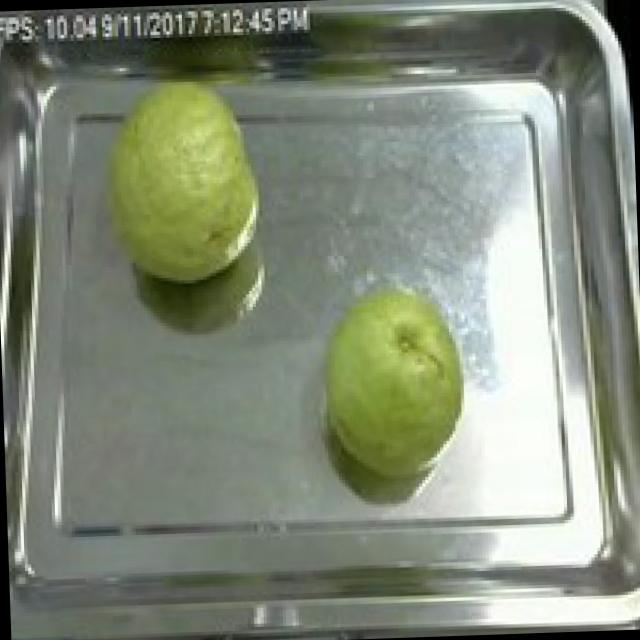Fruit: (78, 72, 274, 296), (306, 273, 479, 490)
